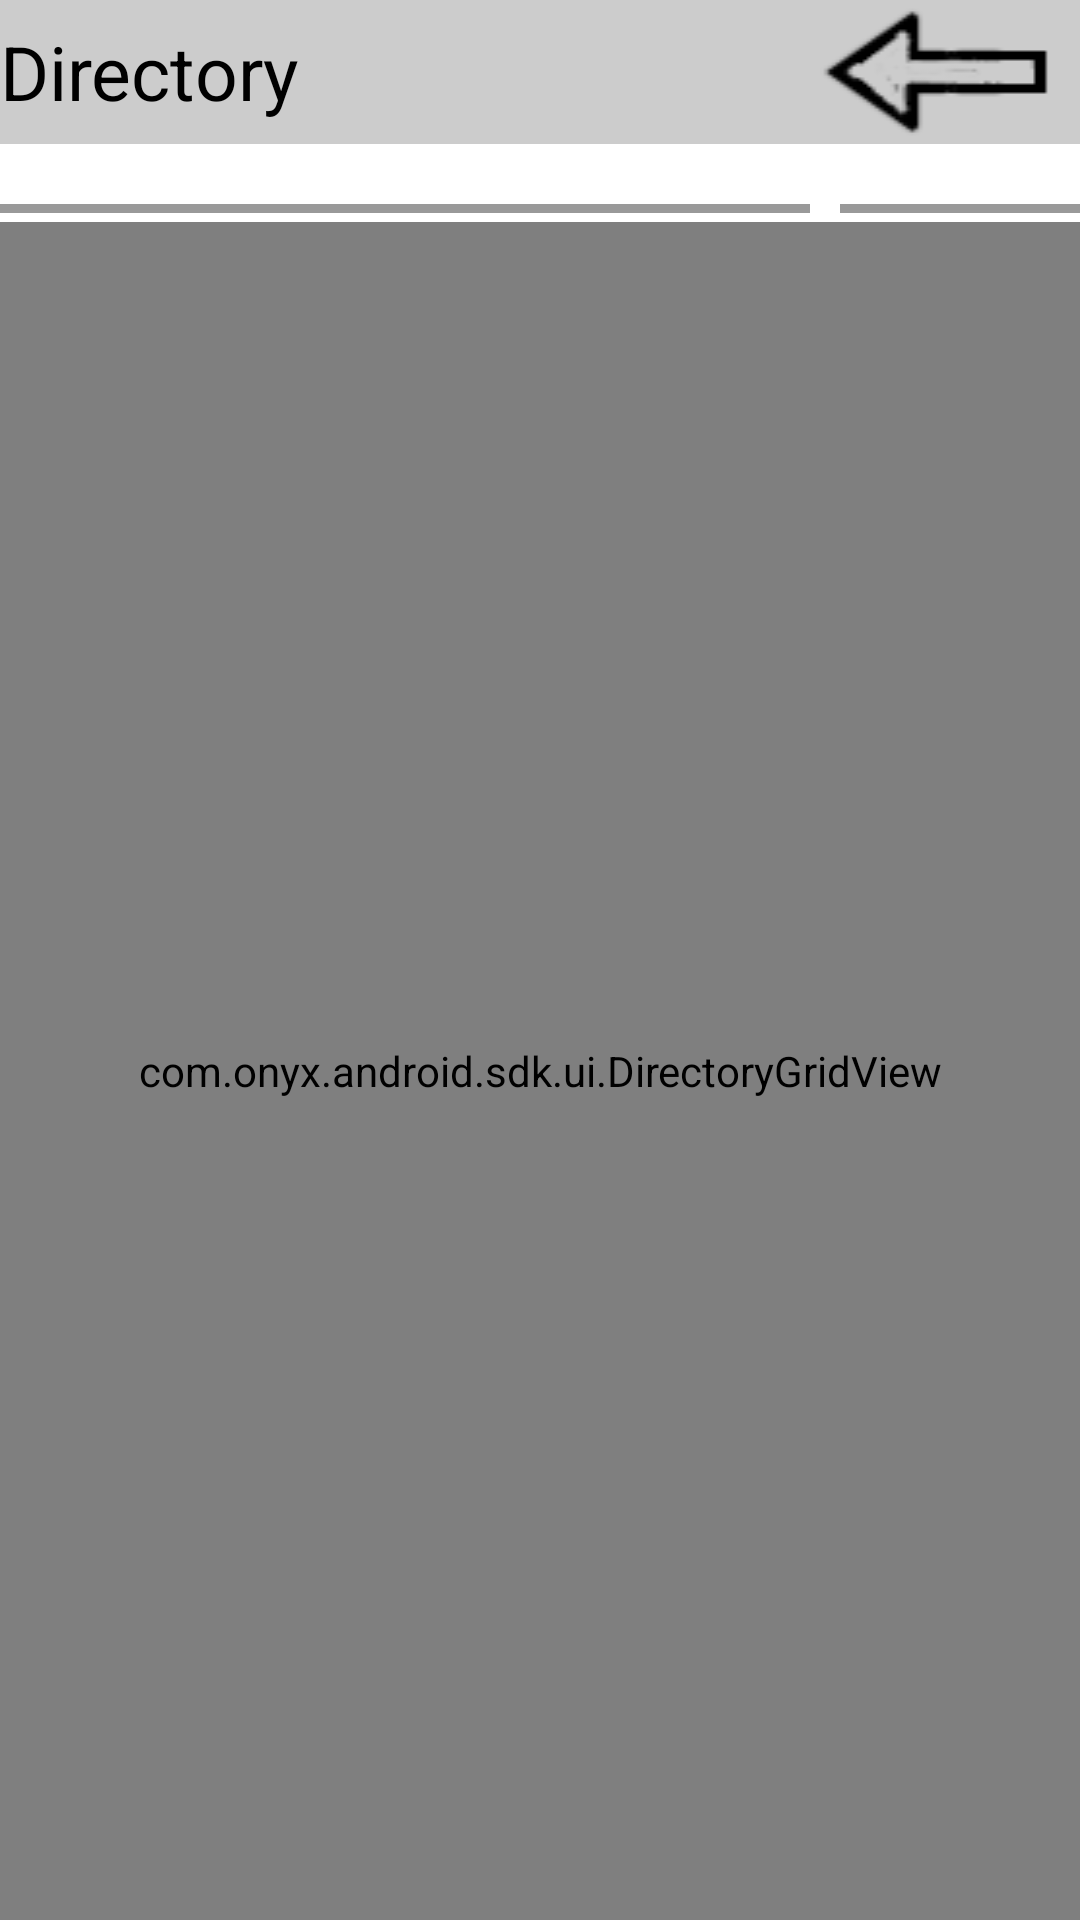

Icon bounding boxes for this 1080px×1920px phone screenshot, format bbox=[x1, y1, x2, y2]:
back: bbox=[825, 11, 1048, 133]
